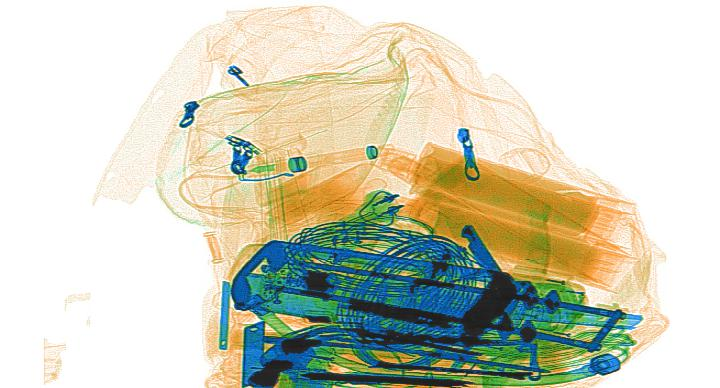knife: (239, 318, 267, 386), (218, 279, 233, 352)
